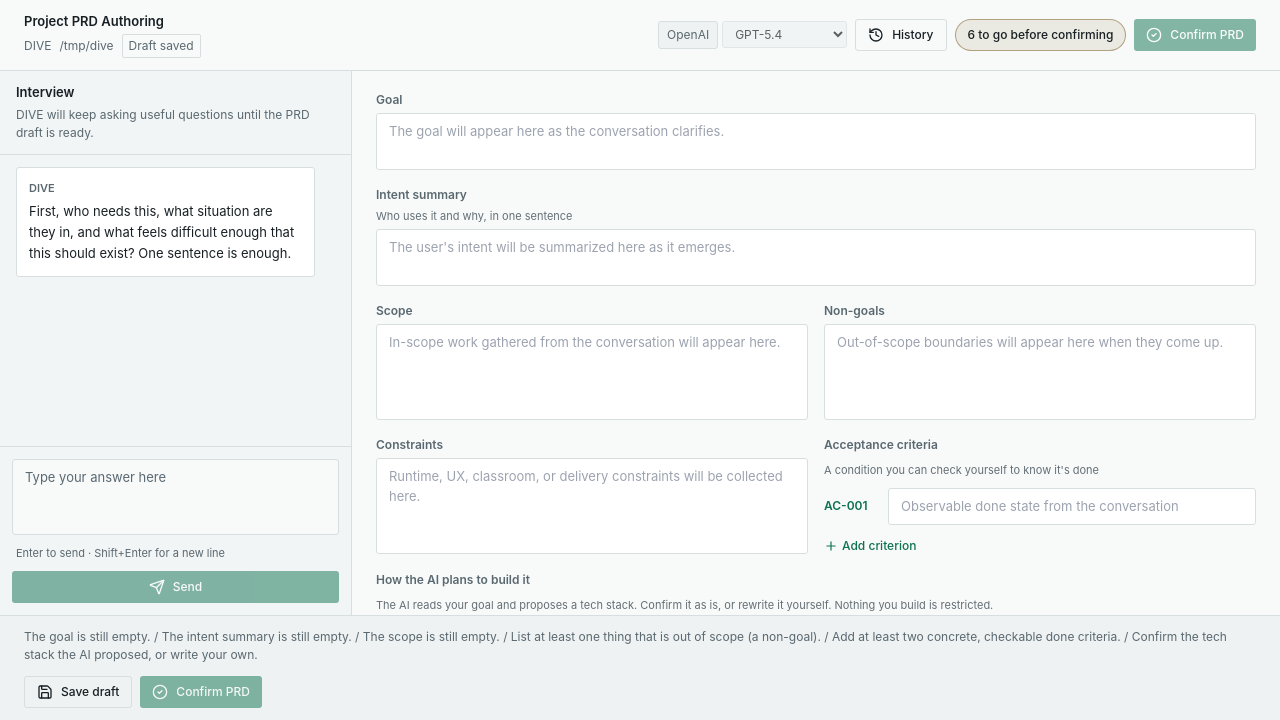
Test: PrdAuthoringBoard › shows the assistant interview response as part of the PRD conversation
Step 1. Type "Teachers need a quick handoff checklist." into the text box with test id "prd-interview-input" → (176,497), box [12, 458, 339, 535]
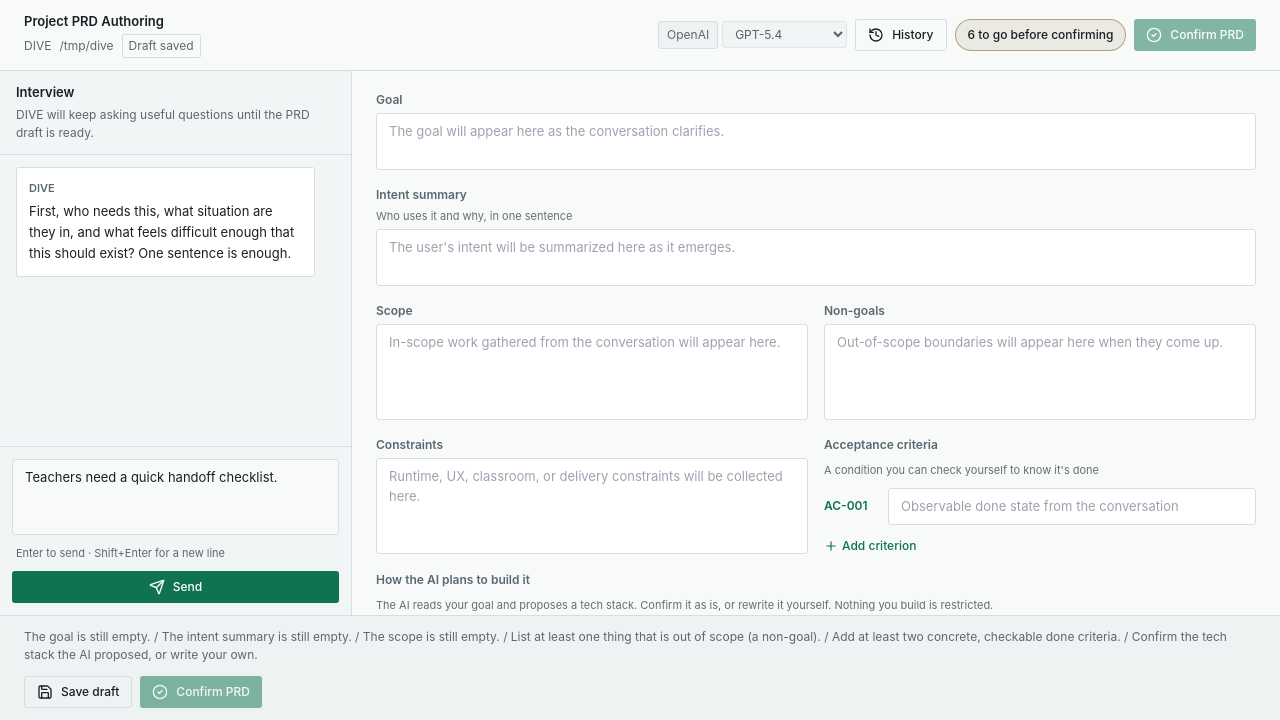
Step 2. Click the button with test id "prd-interview-send" → (176,587), box [12, 571, 339, 603]
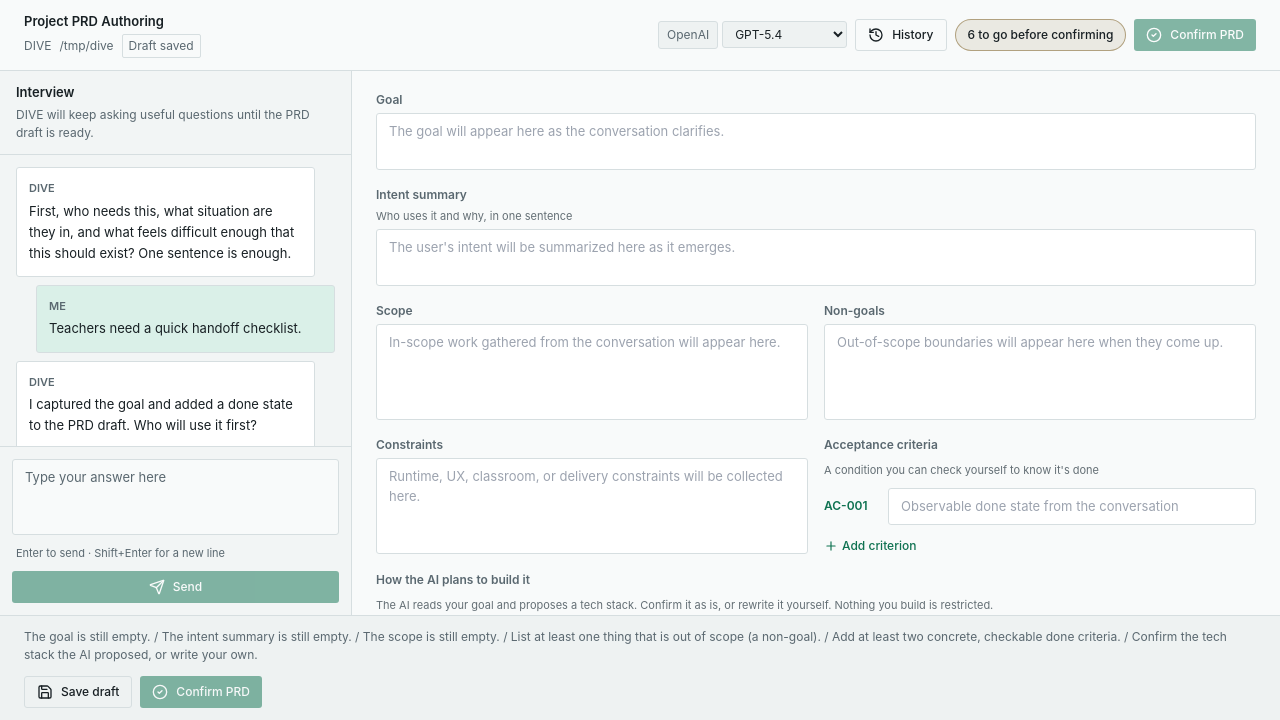
Expected: the text "Teachers need a quick handoff checklist." is shown, [49, 318, 322, 340]
Expected: the text "I captured the goal and added a done state to the PRD draft. Who will use it first?" is shown, [29, 396, 296, 433]
